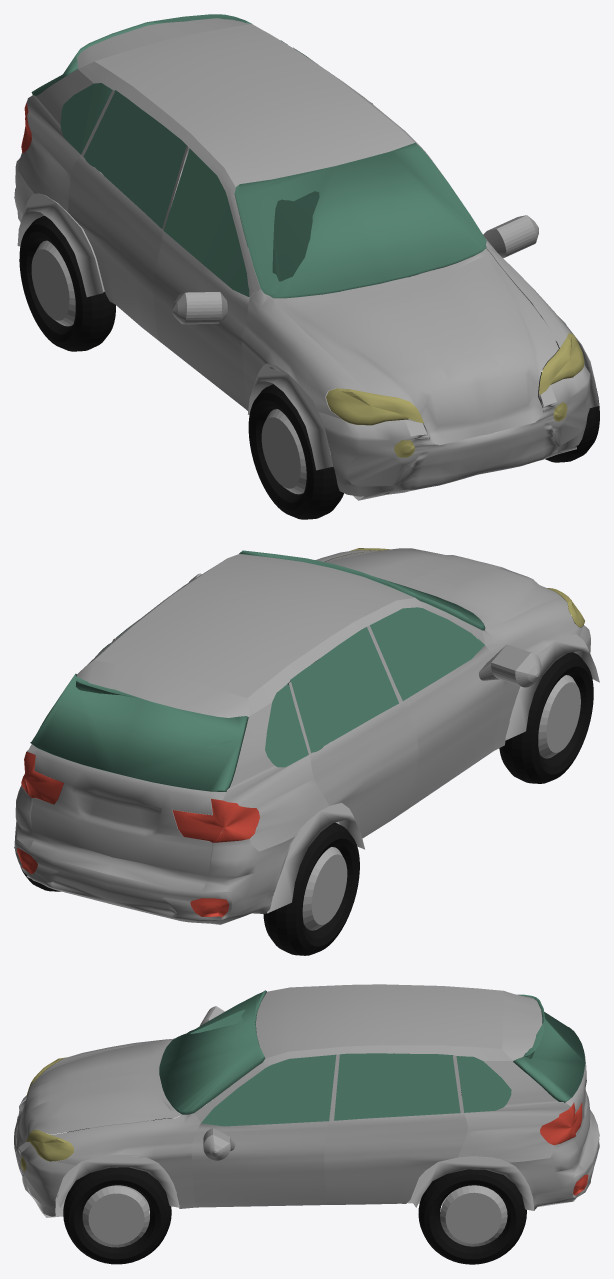
3 views of the same model, one above another, from view 1: azimuth 30°, elevation 25°; view 2: azimuth 150°, elevation 25°; view 3: azimuth 270°, elevation 25° (orthographic). The views are drawn at different scales.
Parts seen in each view (by area): view 1: Hood_Hood_Plane.000, Roof_Roof_Plane.003, WindowFront_WindowF_Plane.016, BumberFront_BumberFront_Plane.031, DoorBackRight_DoorRB_Plane.027, DoorFrontRight_DoorRF_Plane.025, WindowBackRight_WindowRB_Plane.036, FenderFrontRight_FenderRF_Plane.009, WindowFrontRight_WindowRF_Plane.026, TireBackRight_TireRB_Cube, FenderBackRight_FenderRB_Plane.028, TireFrontRight_TireRF_Cube (+16 smaller); view 2: Roof_Roof_Plane.003, Trunk_Trunk_Plane.029, WindowBack_WindowB_Plane.020, BumperRear_BumperRear_Plane.030, DoorBackRight_DoorRB_Plane.027, DoorFrontRight_DoorRF_Plane.025, Hood_Hood_Plane.000, WindowBackRight_WindowRB_Plane.036, FenderBackRight_FenderRB_Plane.028, WindowFrontRight_WindowRF_Plane.026, TireBackRight_TireRB_Cube, TireFrontRight_TireRF_Cube (+12 smaller); view 3: Roof_Roof_Plane.003, Hood_Hood_Plane.000, DoorFrontLeft_DoorLF_Plane.006, DoorBackLeft_DoorLB_Plane.008, WindowBackLeft_WindowLB_Plane.032, WindowFront_WindowF_Plane.016, WindowFrontLeft_WindowLF_Plane.024, FenderBackLeft_FenderLB_Plane.015, FenderFrontLeft_FenderLF_Plane.021, TireFrontLeft_TireLF_Cube, TireBackLeft_TireLB_Cube, WindowBack_WindowB_Plane.020 (+13 smaller).
Part boxes in pixels (x1,y1,x2,y2): Hood_Hood_Plane.000: (273,249,558,445); Roof_Roof_Plane.003: (95,24,414,186); WindowFront_WindowF_Plane.016: (234,142,486,298); BumberFront_BumberFront_Plane.031: (318,365,590,496); DoorBackRight_DoorRB_Plane.027: (68,155,163,340); DoorFrontRight_DoorRF_Plane.025: (153,231,249,408); WindowBackRight_WindowRB_Plane.036: (83,90,186,229); FenderFrontRight_FenderRF_Plane.009: (241,289,369,419); WindowFrontRight_WindowRF_Plane.026: (163,148,249,296); TireBackRight_TireRB_Cube: (19,215,115,351); FenderBackRight_FenderRB_Plane.028: (18,69,93,212); TireFrontRight_TireRF_Cube: (248,384,343,519); Roof_Roof_Plane.003: (94,554,414,698); Trunk_Trunk_Plane.029: (27,660,249,875); WindowBack_WindowB_Plane.020: (30,673,248,791); BumperRear_BumperRear_Plane.030: (14,783,294,924); DoorBackRight_DoorRB_Plane.027: (309,701,418,838); DoorFrontRight_DoorRF_Plane.025: (402,645,503,807); Hood_Hood_Plane.000: (325,548,560,628); WindowBackRight_WindowRB_Plane.036: (290,627,398,753); FenderBackRight_FenderRB_Plane.028: (223,702,329,851); WindowFrontRight_WindowRF_Plane.026: (370,607,484,700); TireBackRight_TireRB_Cube: (263,822,359,955); TireFrontRight_TireRF_Cube: (499,652,593,783); Roof_Roof_Plane.003: (255,984,503,1058); Hood_Hood_Plane.000: (16,1038,182,1152); DoorFrontLeft_DoorLF_Plane.006: (191,1121,328,1207); DoorBackLeft_DoorLB_Plane.008: (324,1113,467,1204); WindowBackLeft_WindowLB_Plane.032: (334,1053,460,1120); WindowFront_WindowF_Plane.016: (159,990,266,1114); WindowFrontLeft_WindowLF_Plane.024: (201,1054,336,1126); FenderBackLeft_FenderLB_Plane.015: (458,1060,570,1162); FenderFrontLeft_FenderLF_Plane.021: (51,1113,200,1208); TireFrontLeft_TireLF_Cube: (63,1167,171,1264); TireBackLeft_TireLB_Cube: (418,1169,526,1264); WindowBack_WindowB_Plane.020: (513,994,585,1102).
Size of the model in its own units: 14.47 by 10.29 by 26.69.
